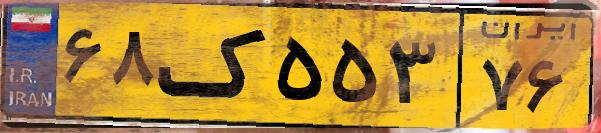3: (385, 28, 445, 110)
5: (270, 28, 330, 110), (330, 28, 385, 110)
6: (57, 26, 110, 100), (525, 38, 570, 115)
7: (475, 38, 525, 113)
8: (110, 28, 158, 98)
ک: (158, 12, 270, 120)
